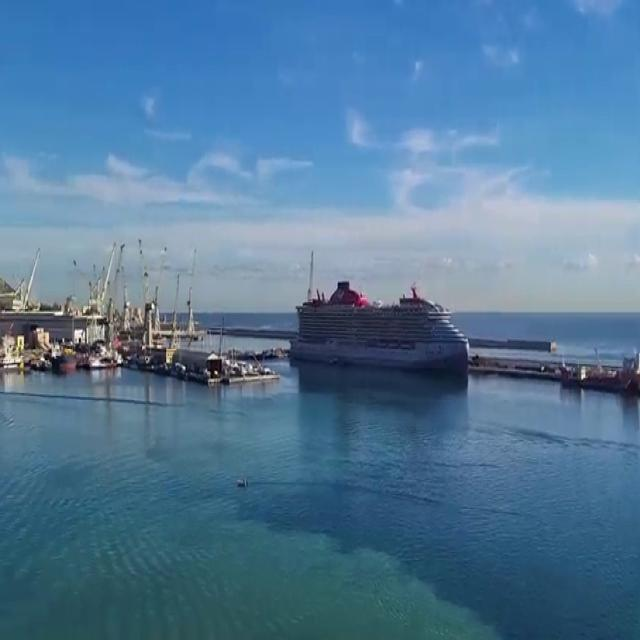passenger ship: (290, 276, 468, 380)
